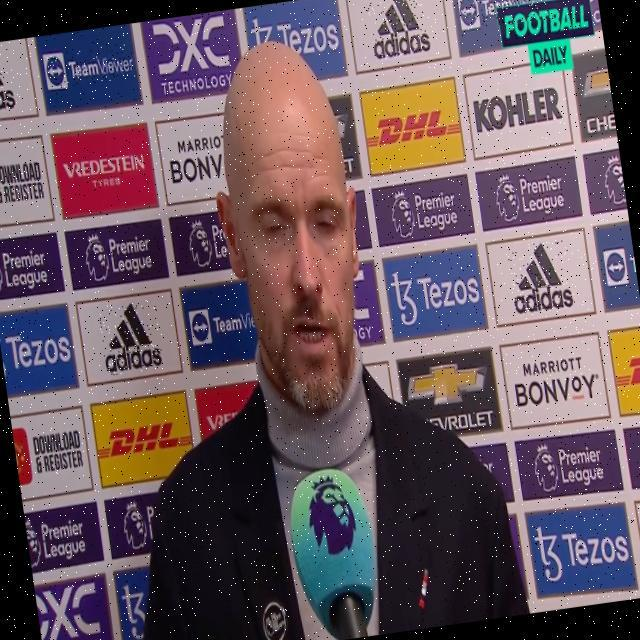Adidas: (506, 238, 576, 315), (97, 299, 165, 377), (364, 0, 429, 60), (0, 40, 17, 116)
Chevrolet: (405, 354, 498, 437)
Kohler: (472, 86, 563, 135)
TeamViewer: (44, 41, 137, 90), (457, 0, 553, 30)
